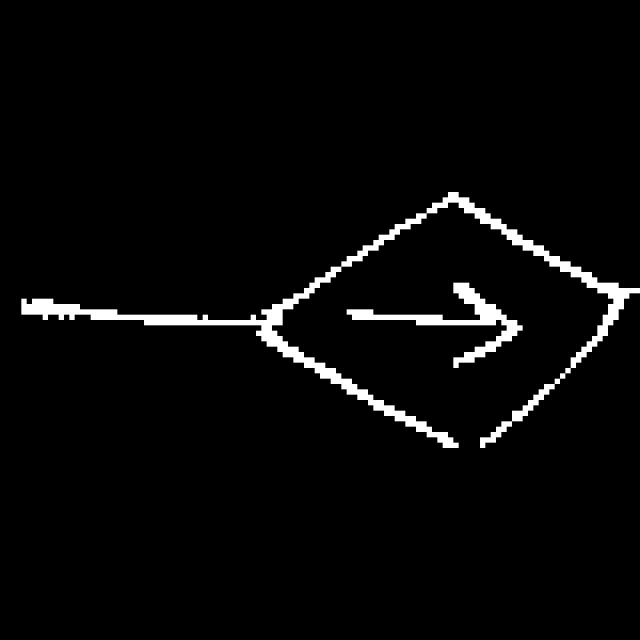dependant_current: (248, 186, 628, 459)
